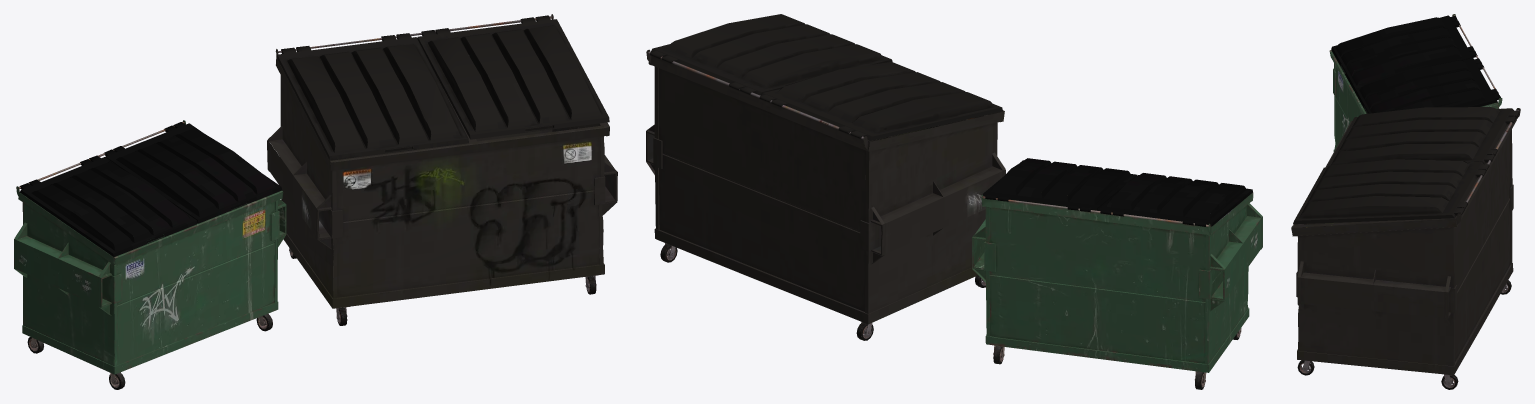
File: dumpster.glb
3 views of the same model, side by side, from view 1: azimuth 30°, elevation 25°; view 2: azimuth 150°, elevation 25°; view 3: azimuth 270°, elevation 25° (orthographic). The views are drawn at different scales.
Parts seen in each view (by area): view 1: 6Y_6Y_dumpster_tex_0, 4Y_4Y_dumpster_tex_0; view 2: 6Y_6Y_dumpster_tex_0, 4Y_4Y_dumpster_tex_0; view 3: 6Y_6Y_dumpster_tex_0, 4Y_4Y_dumpster_tex_0.
Boxes of the visible parts, left/top/right/bottom form: 6Y_6Y_dumpster_tex_0: left=267, top=14, right=617, bottom=325; 4Y_4Y_dumpster_tex_0: left=14, top=120, right=286, bottom=389; 6Y_6Y_dumpster_tex_0: left=646, top=14, right=1005, bottom=340; 4Y_4Y_dumpster_tex_0: left=972, top=158, right=1262, bottom=389; 6Y_6Y_dumpster_tex_0: left=1291, top=107, right=1520, bottom=389; 4Y_4Y_dumpster_tex_0: left=1329, top=14, right=1502, bottom=151.
Size of the model in its own units: 117 by 41.34 by 46.94.
Materials: 2 (2 with a texture image).
